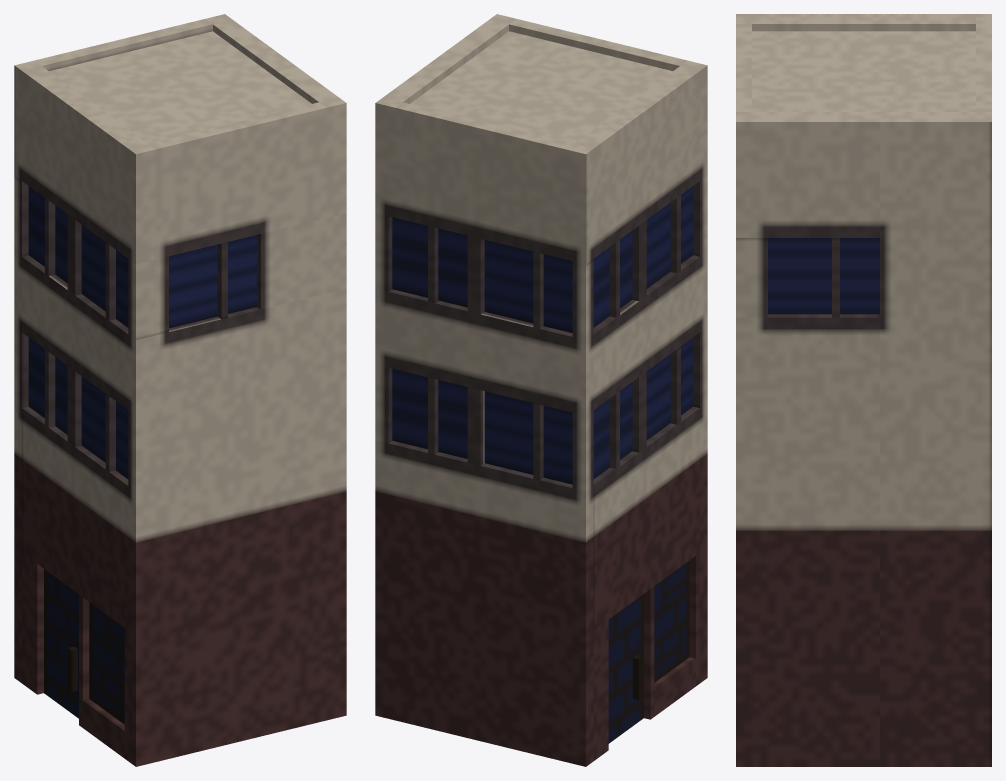
3 renders of one model, left to right at view 1: azimuth 30°, elevation 25°; view 2: azimuth 150°, elevation 25°; view 3: azimuth 270°, elevation 25°, orthographic. The views are drawn at different scales.
Visible parts, largest first — view 1: Content; view 2: Content; view 3: Content.
Part boxes in pixels (x1=…): Content: x1=14, y1=14, x2=346, y2=766; Content: x1=375, y1=14, x2=707, y2=766; Content: x1=736, y1=14, x2=991, y2=766.
Size of the model in its own units: 32 by 89 by 32.
Materials: 1 (1 with a texture image).
